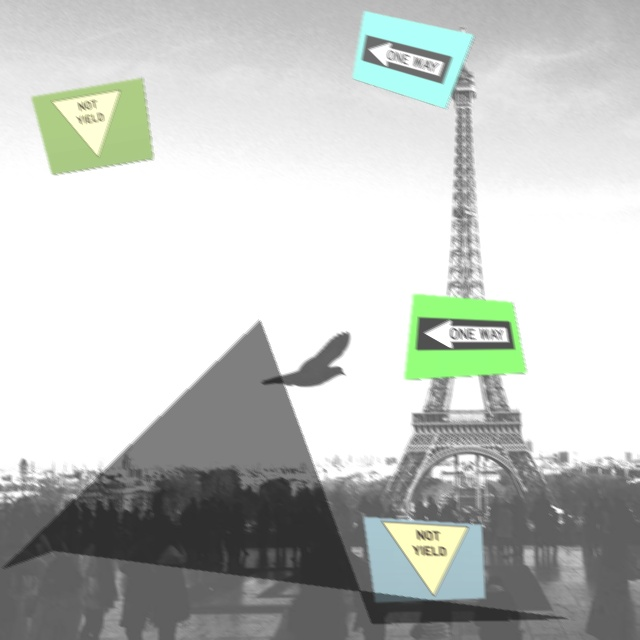NOT_YIELD: (382, 521, 473, 598), (51, 90, 137, 163)
ONE_WAY_ left: (361, 35, 453, 85), (416, 317, 515, 350)
